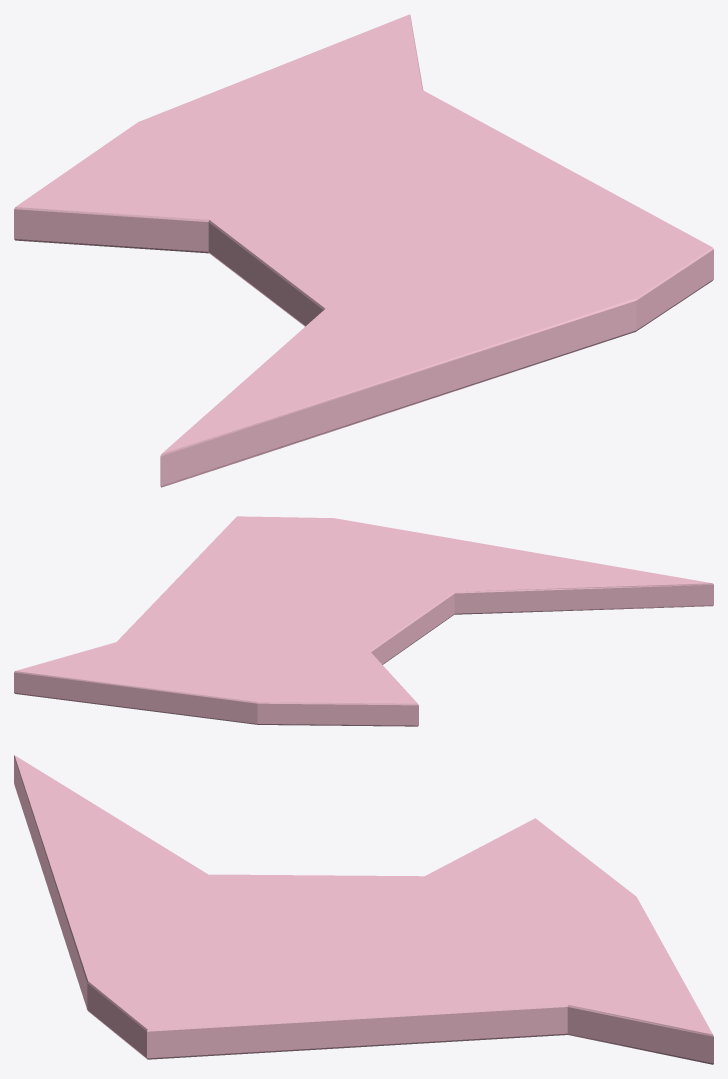
File: TTO.glb
3 views of the same model, one above another, from view 1: azimuth 30°, elevation 25°; view 2: azimuth 150°, elevation 25°; view 3: azimuth 270°, elevation 25° (orthographic). The views are drawn at different scales.
Size of the model in its own units: 1.35 by 0.068 by 1.43.
